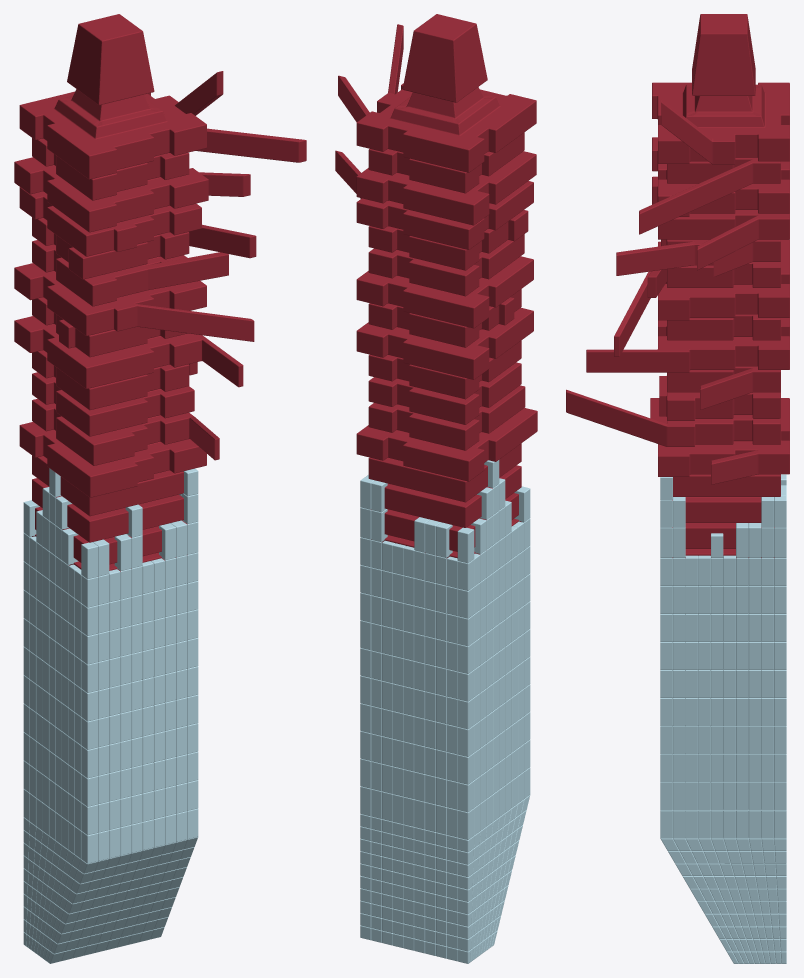
File: ares_RoboKraken_mdl_002_is_nn.fbx
3 renders of one model, left to right at view 1: azimuth 30°, elevation 25°; view 2: azimuth 150°, elevation 25°; view 3: azimuth 270°, elevation 25°, orthographic. The views are drawn at different scales.
Visible parts, largest first — view 1: Cube.002, Cube.001; view 2: Cube.002, Cube.001; view 3: Cube.002, Cube.001.
Part boxes in pixels (x1,y1,x2,y2): Cube.002: [14, 14, 306, 571]; Cube.001: [23, 468, 198, 963]; Cube.002: [335, 14, 537, 558]; Cube.001: [360, 460, 530, 963]; Cube.002: [566, 14, 789, 557]; Cube.001: [660, 474, 786, 963].
Size of the model in its own units: 10234 by 41939 by 9310.
